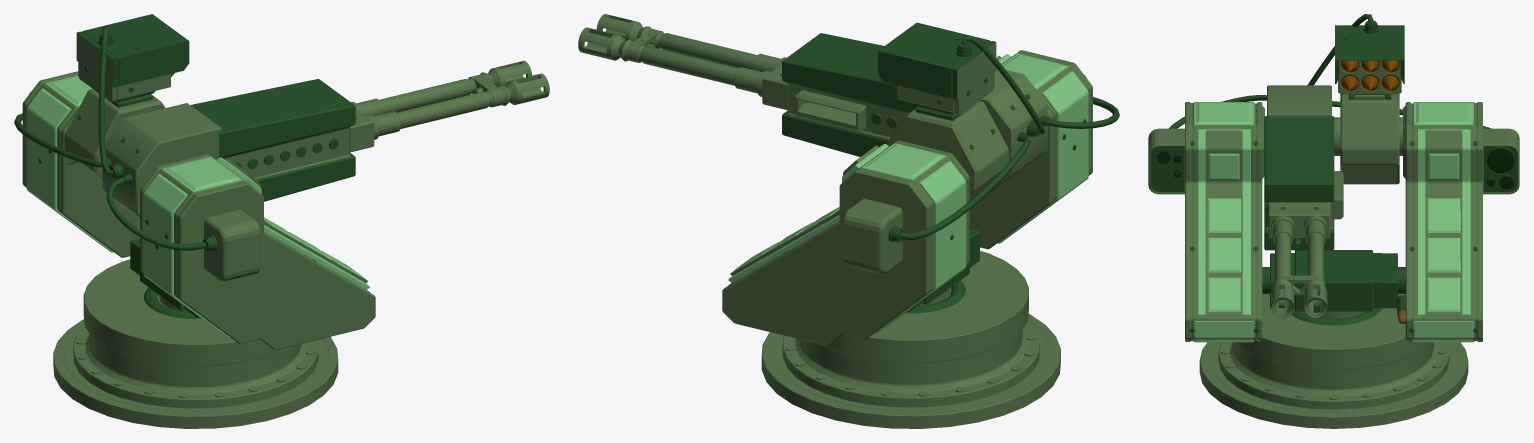
Rendered from simple.glb.
3 renders of one model, left to right at view 1: azimuth 30°, elevation 25°; view 2: azimuth 150°, elevation 25°; view 3: azimuth 270°, elevation 25°, orthographic. The views are drawn at different scales.
Visible parts, largest first — view 1: Plane.013, Cylinder.005, Plane.016, Cube.003, Plane.014, object 1, object 2; view 2: Plane.013, Cylinder.005, Plane.016, Cube.003, Plane.014, object 1, object 2; view 3: Plane.013, Cylinder.005, Plane.016, Plane.014, Cube.003, Cube.010, Plane.015, Cylinder.007, Cylinder.006, object 1, object 2.
Boxes of the visible parts, left/top/right/bottom form: Plane.013: left=22, top=71, right=375, bottom=349; Cylinder.005: left=53, top=238, right=338, bottom=428; Plane.016: left=102, top=60, right=549, bottom=218; Cube.003: left=76, top=14, right=189, bottom=107; Plane.014: left=64, top=88, right=165, bottom=180; object 1: left=14, top=113, right=206, bottom=250; object 2: left=98, top=26, right=113, bottom=174; Plane.013: left=722, top=50, right=1092, bottom=345; Cylinder.005: left=761, top=229, right=1060, bottom=428; Plane.016: left=578, top=14, right=1047, bottom=193; Cube.003: left=878, top=22, right=996, bottom=120; Plane.014: left=886, top=101, right=1008, bottom=197; object 1: left=900, top=97, right=1119, bottom=239; object 2: left=961, top=35, right=1044, bottom=134; Plane.013: left=1148, top=102, right=1519, bottom=342; Cylinder.005: left=1199, top=250, right=1468, bottom=428; Plane.016: left=1264, top=85, right=1343, bottom=318; Plane.014: left=1340, top=94, right=1399, bottom=184; Cube.003: left=1335, top=25, right=1404, bottom=99; Cube.010: left=1341, top=60, right=1398, bottom=91; Plane.015: left=1153, top=148, right=1182, bottom=190; Cylinder.007: left=1485, top=146, right=1516, bottom=175; Cylinder.006: left=1334, top=117, right=1402, bottom=155; object 1: left=1169, top=95, right=1491, bottom=128; object 2: left=1307, top=14, right=1373, bottom=85.
Size of the model in its own units: 5.27 by 3.84 by 3.97.
